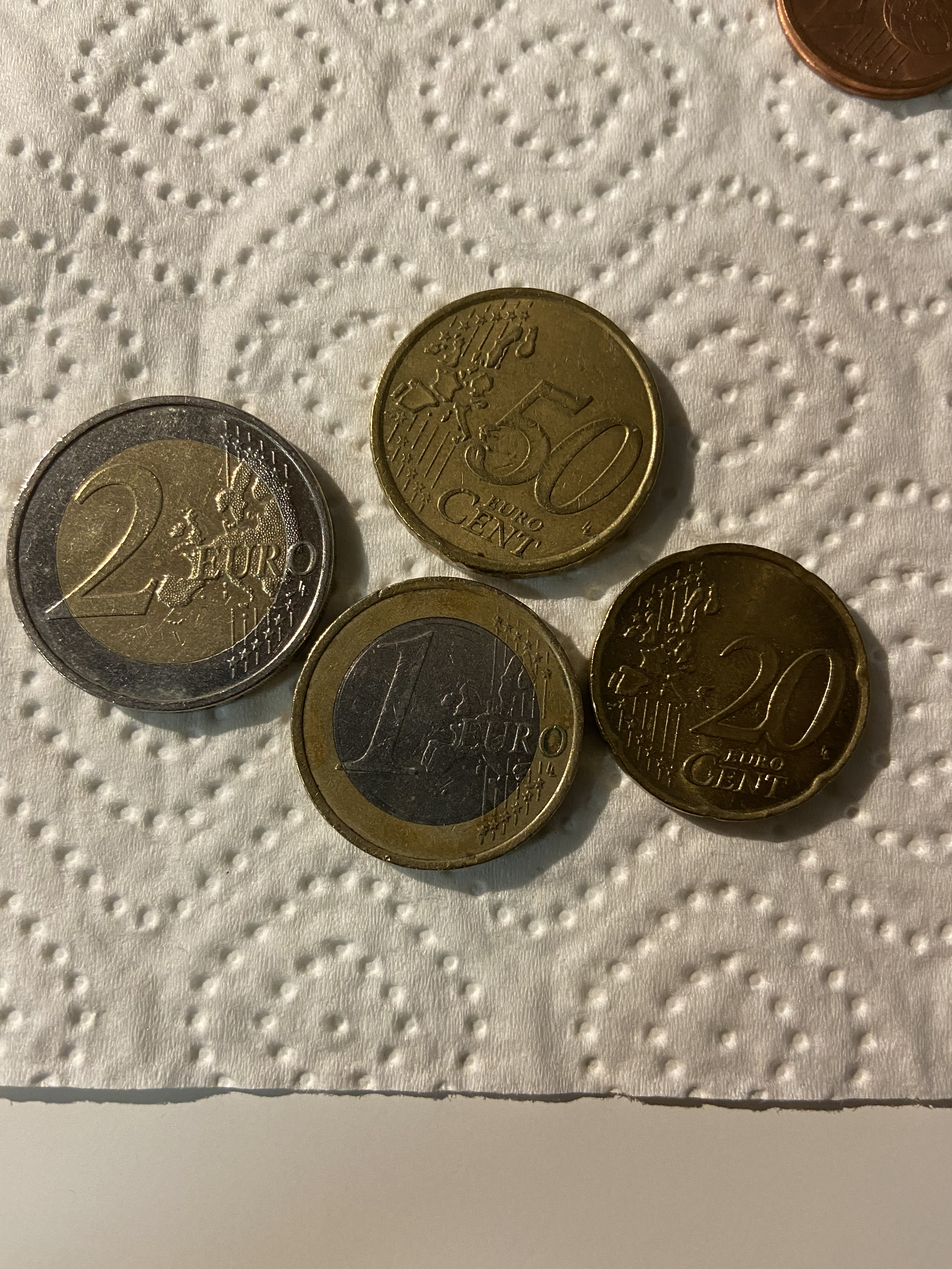1 euro: (285, 575, 588, 880)
2 euro: (16, 389, 335, 724)
20 cent: (590, 535, 871, 823)
50 cent: (359, 287, 674, 575)
